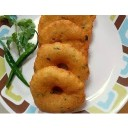vada: (28, 68, 87, 111), (36, 44, 89, 80), (38, 20, 87, 55)
